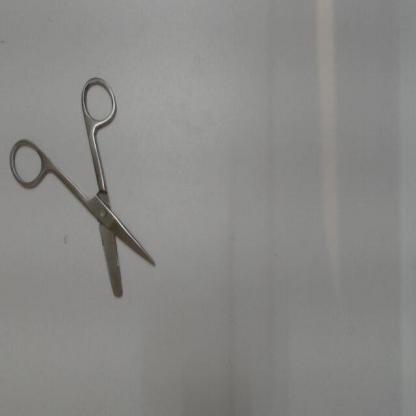Dressing Scissors: (1, 67, 164, 309)
